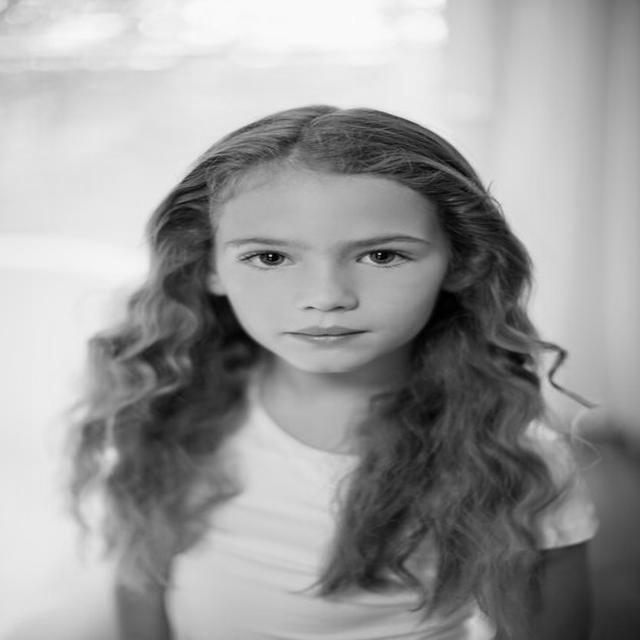Neutral: (215, 175, 448, 373)
